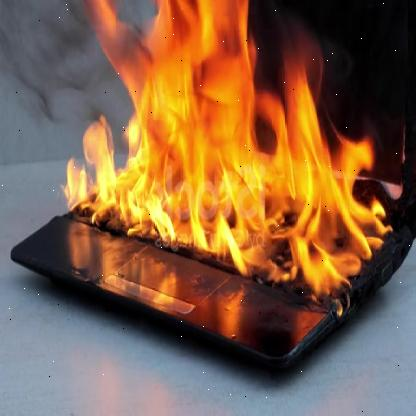fire: (60, 0, 390, 296)
smoke: (0, 0, 104, 111)
